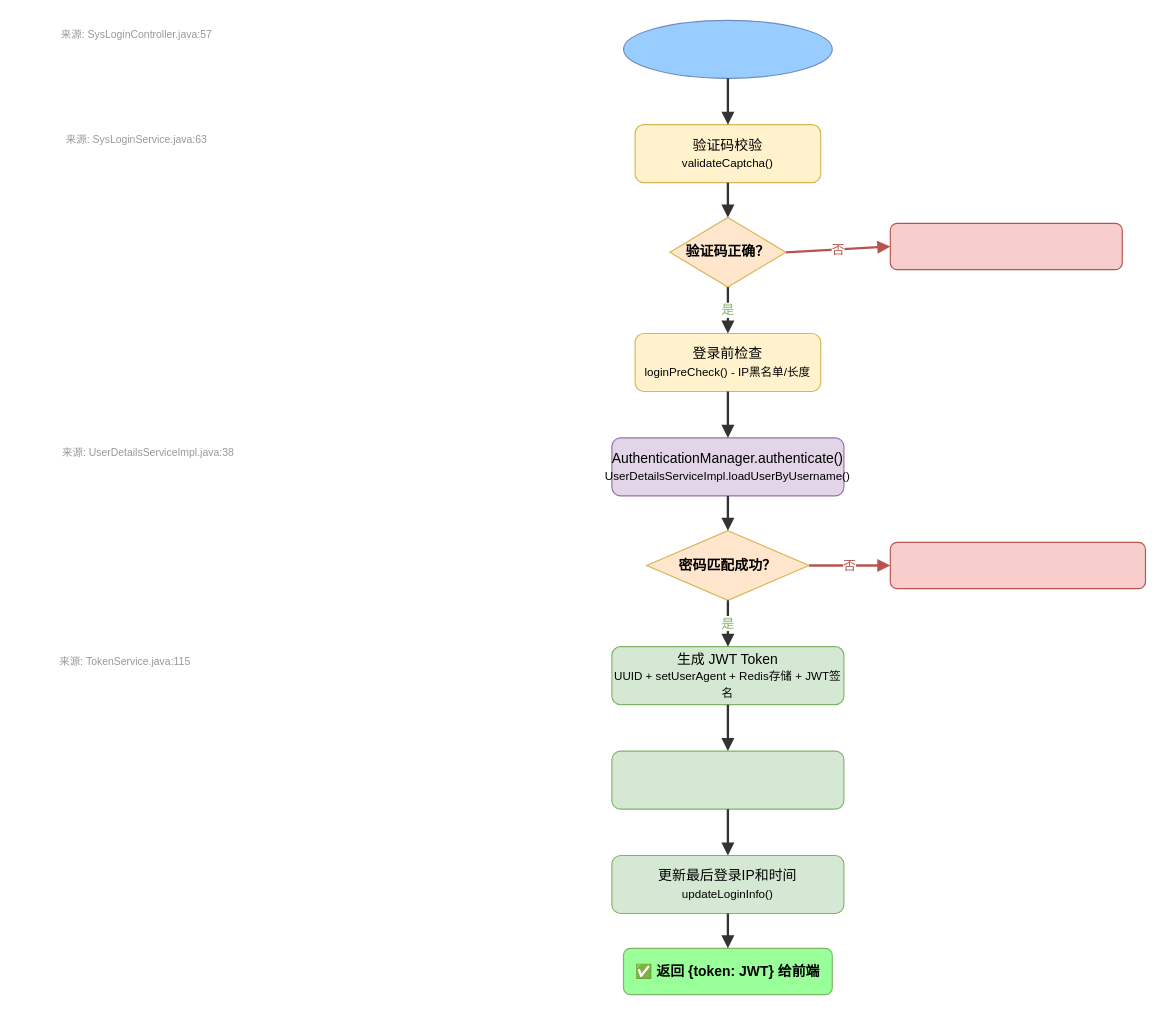
This 1166x1015 diagram has some shape labels left out. The shapes that lost their labels are listed below. From the top down, each one's centre as x and y in pixels, then its label:
At (727,48): "开始：用户提交登录表单".
At (1005,246): "❌ 抛出 CaptchaExpireException".
At (1017,565): "❌ 密码错误/重试计数+1 UserPasswordNotMatchException".
At (727,779): "异步记录登录日志 AsyncManager → sys_logininfor".
